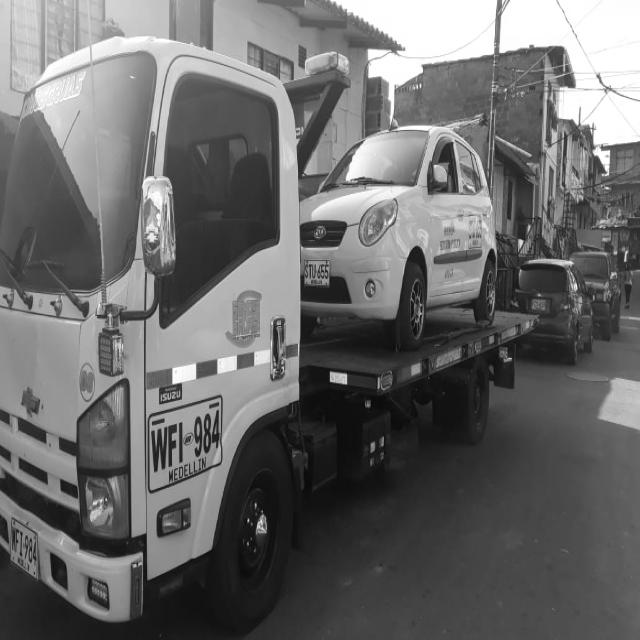plate: (145, 392, 223, 494), (8, 514, 41, 585), (302, 256, 332, 292)
